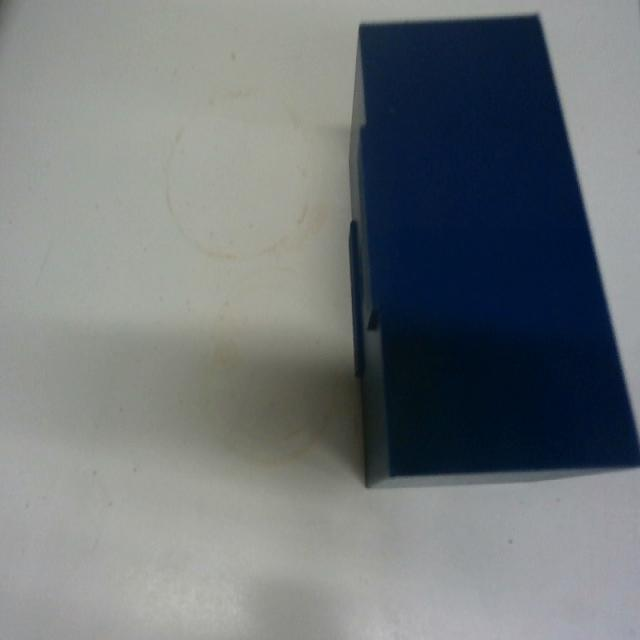Blue Cuboid: (345, 11, 639, 489)
